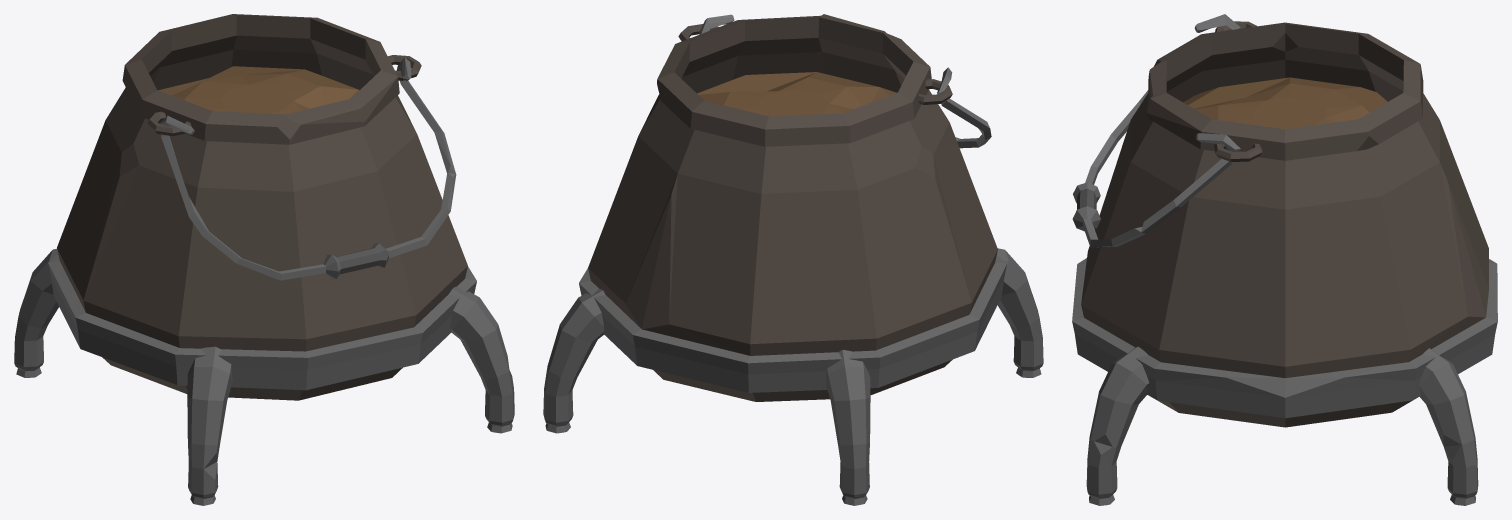
File: SFHW_Cauldron_Dirt_001.fbx
The picture shows the model from 3 angles, left to right: view 1: azimuth 30°, elevation 25°; view 2: azimuth 150°, elevation 25°; view 3: azimuth 270°, elevation 25°; orthographic projection. The views are drawn at different scales.
Parts seen in each view (by area): view 1: SFHW_Cauldron_Dirt_001; view 2: SFHW_Cauldron_Dirt_001; view 3: SFHW_Cauldron_Dirt_001.
Boxes of the visible parts, bbox=[...] form: SFHW_Cauldron_Dirt_001: bbox=[14, 14, 514, 505]; SFHW_Cauldron_Dirt_001: bbox=[543, 14, 1043, 505]; SFHW_Cauldron_Dirt_001: bbox=[1072, 14, 1497, 505].
Bounding box in the file's own units: 92.44 × 80.86 × 89.2.
